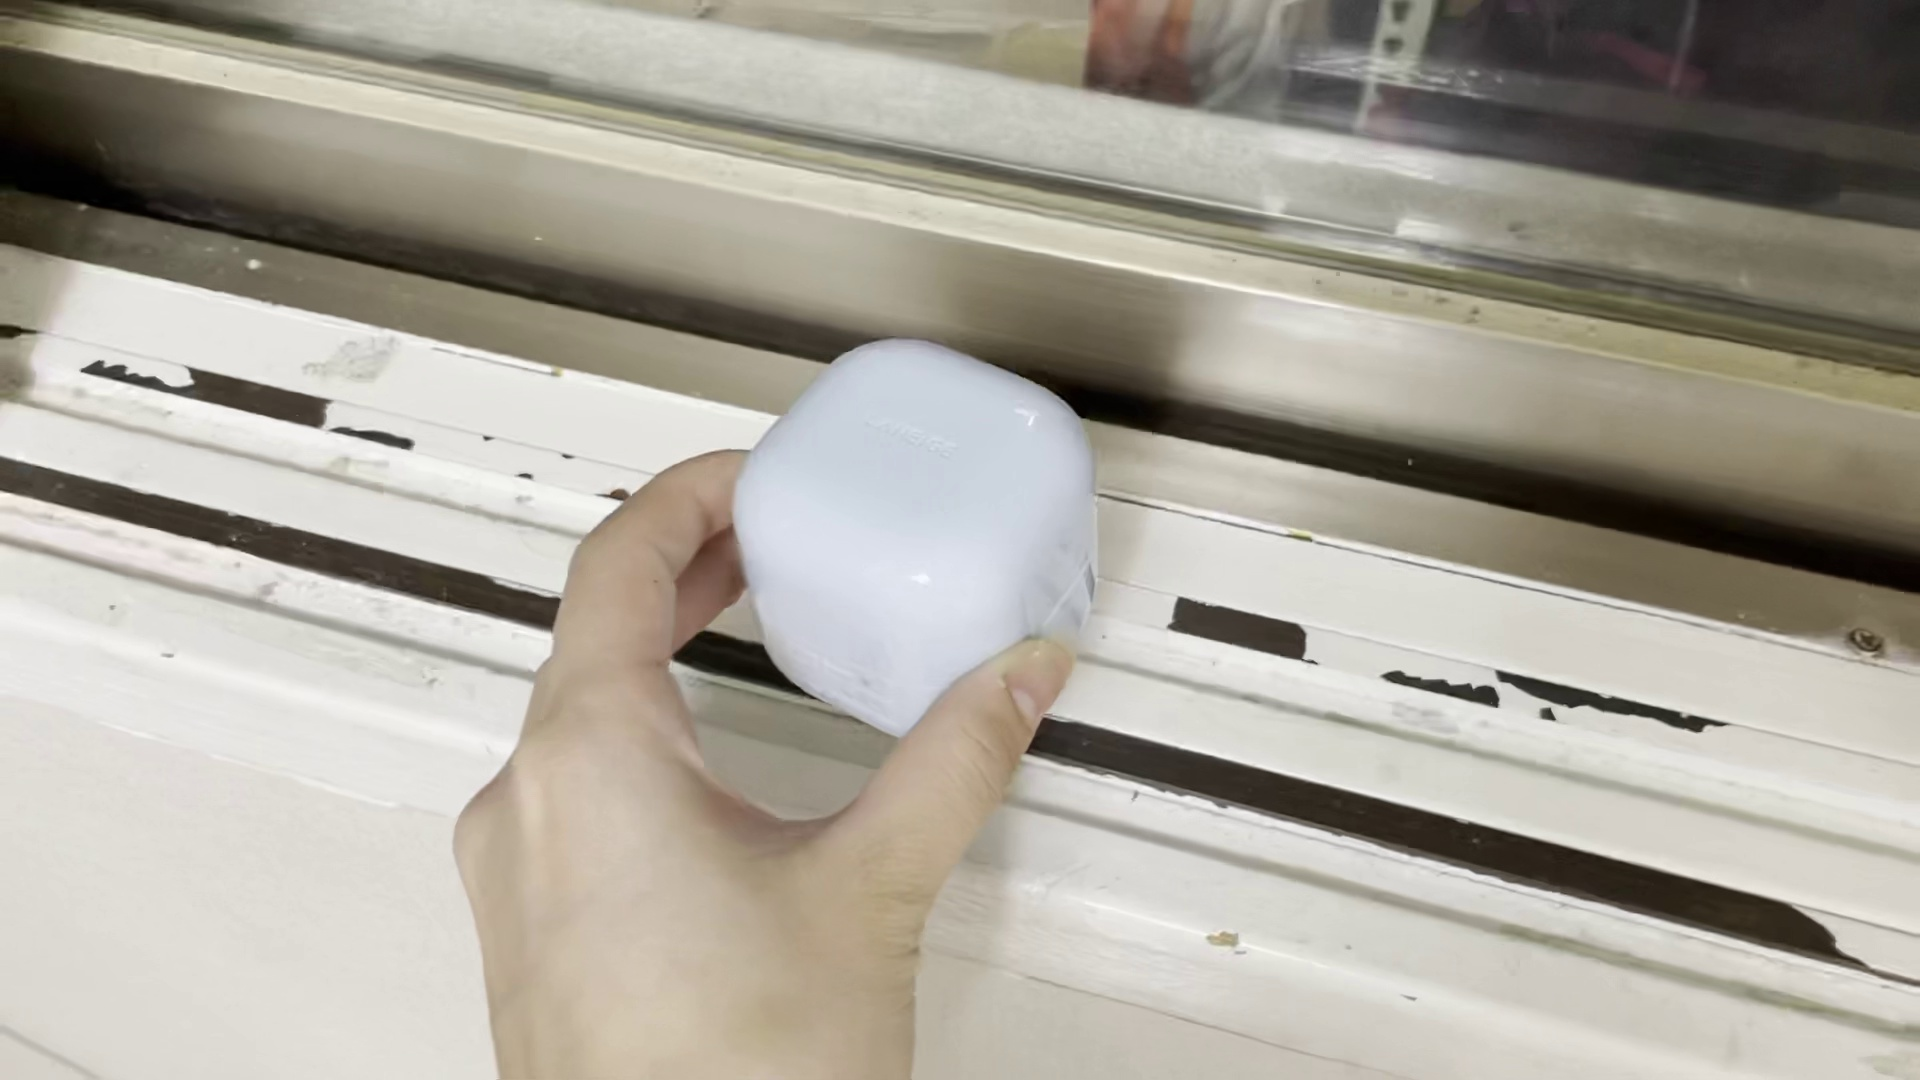cream: (728, 335, 1101, 738)
